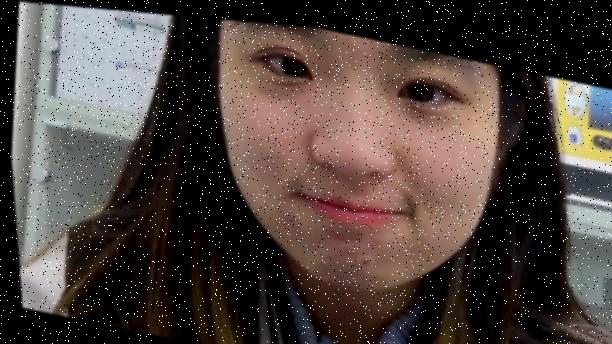eye: (280, 50, 305, 73), (408, 73, 432, 95)
iris: (258, 47, 311, 77), (399, 70, 449, 100)
